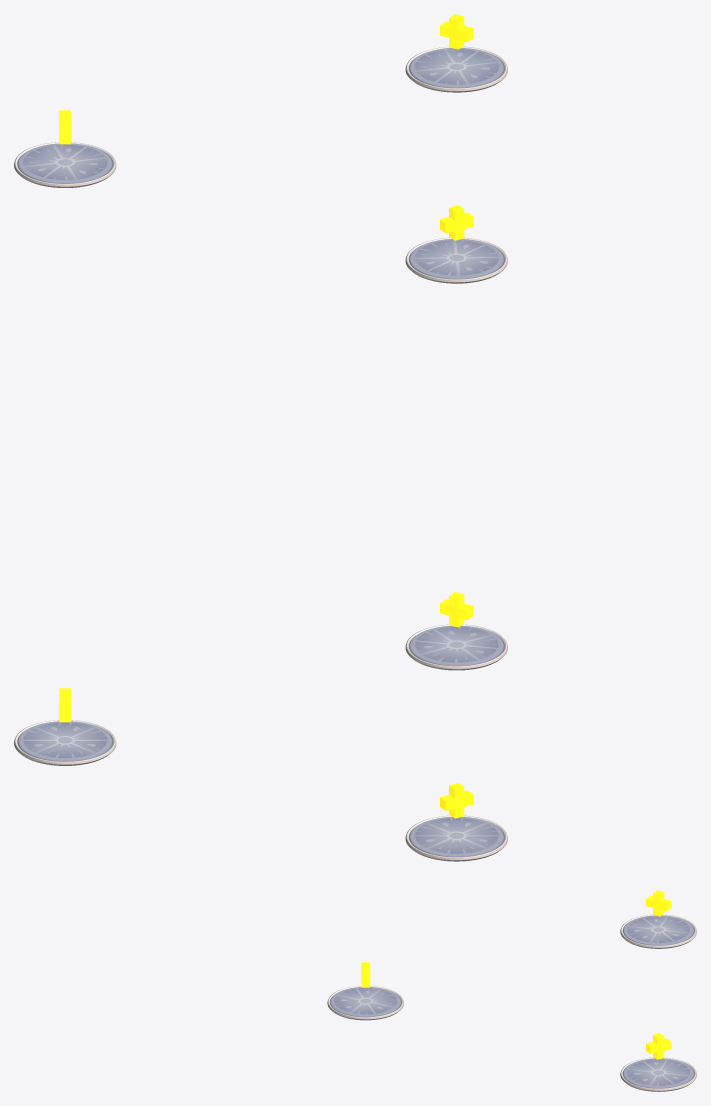
The model's file is BTLMN_LemonPlatforms.glb.
The picture shows the model from 3 angles, top to bottom: view 1: azimuth 30°, elevation 25°; view 2: azimuth 150°, elevation 25°; view 3: azimuth 270°, elevation 25°; orthographic projection. The views are drawn at different scales.
Visible parts, largest first — view 1: Platform_1, Platform_2, Platform_3, Plus_1_Stroke, Plus_2_Stroke; view 2: Platform_1, Platform_3, Platform_2, Plus_3_Stroke, Plus_1_Stroke; view 3: Platform_1, Platform_3, Platform_2, Plus_2_Stroke, Plus_3_Stroke.
Part boxes in pixels (box(x1,y1,x2,y2)): Platform_1: box(405, 237, 507, 283); Platform_2: box(405, 46, 507, 92); Platform_3: box(14, 142, 116, 187); Plus_1_Stroke: box(440, 205, 473, 240); Plus_2_Stroke: box(440, 14, 473, 49); Platform_1: box(405, 624, 507, 670); Platform_3: box(405, 815, 507, 861); Platform_2: box(14, 720, 116, 765); Plus_3_Stroke: box(440, 783, 473, 818); Plus_1_Stroke: box(440, 592, 473, 627); Platform_1: box(327, 986, 403, 1020); Platform_3: box(620, 914, 696, 948); Platform_2: box(620, 1057, 696, 1091); Plus_2_Stroke: box(646, 1033, 671, 1059); Plus_3_Stroke: box(646, 890, 671, 916).
Size of what is drawn, in the model's own units: 1088 by 174 by 1749.
5 materials, 2 textured.
